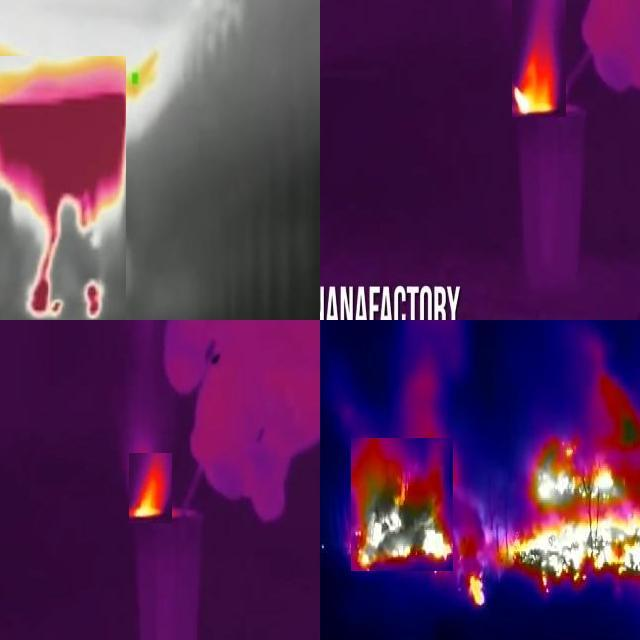fire: (466, 407, 640, 611), (1, 56, 126, 321), (351, 438, 453, 571), (512, 1, 566, 117), (129, 453, 172, 523)
